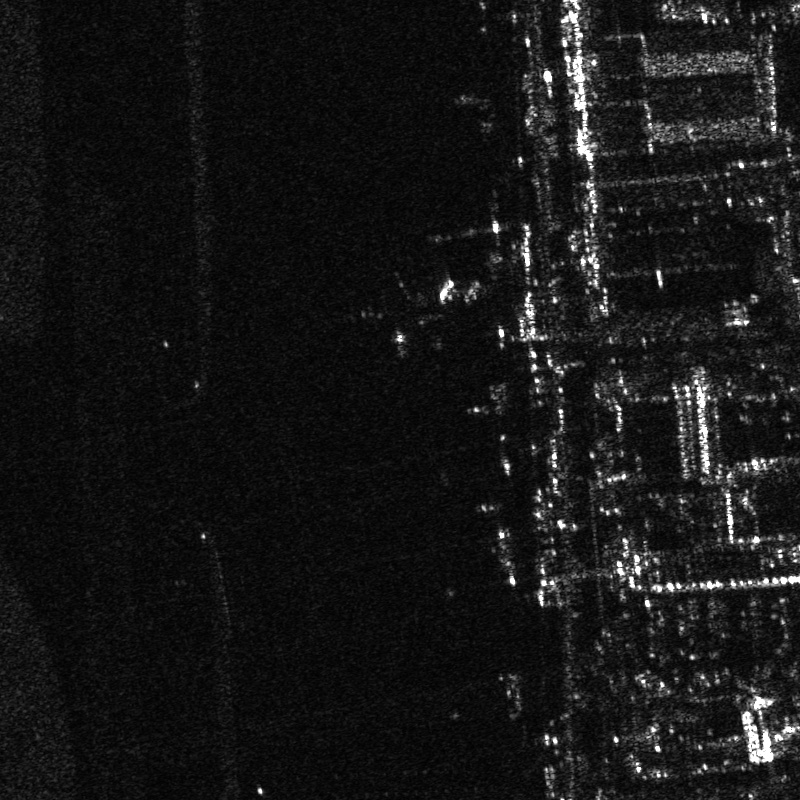A320/321: (429, 191, 518, 258)
other: (350, 273, 449, 354)
